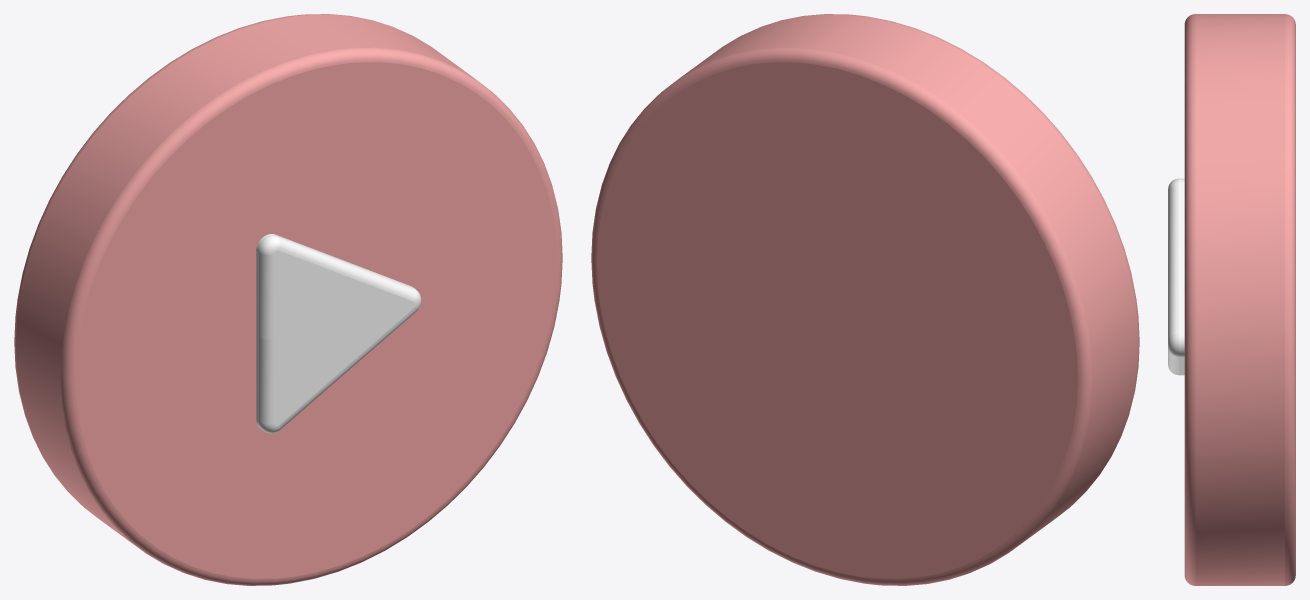
Rendered from movie.gltf.
3 views of the same model, side by side, from view 1: azimuth 30°, elevation 25°; view 2: azimuth 150°, elevation 25°; view 3: azimuth 270°, elevation 25° (orthographic).
Parts seen in each view (by area): view 1: キャップ 1 (×2), Path (×2), 丸み 1 (×2), 丸み 2; view 2: キャップ 2, Path, 丸み 2, 丸み 1; view 3: Path (×2), 丸み 1 (×2), 丸み 2.
Part boxes in pixels (bbox=[...]): キャップ 1 (×2): bbox=[76, 62, 556, 578]; Path (×2): bbox=[15, 14, 474, 550]; 丸み 1 (×2): bbox=[61, 47, 562, 585]; 丸み 2: bbox=[14, 14, 392, 485]; キャップ 2: bbox=[597, 62, 1077, 578]; Path: bbox=[679, 14, 1138, 550]; 丸み 2: bbox=[591, 47, 1092, 585]; 丸み 1: bbox=[761, 14, 1139, 485]; Path (×2): bbox=[1179, 14, 1284, 585]; 丸み 1 (×2): bbox=[1168, 14, 1195, 585]; 丸み 2: bbox=[1285, 14, 1295, 585].
Size of the model in its own units: 0.416 by 0.416 by 0.093.
